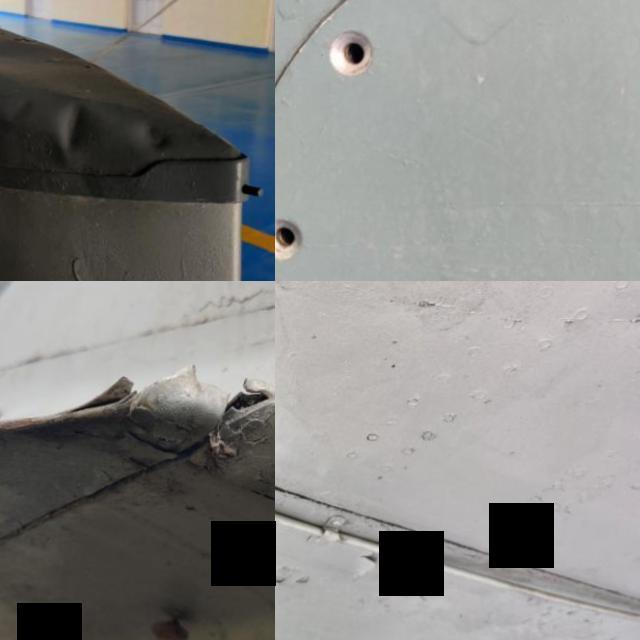Crack: (48, 332, 206, 437), (212, 361, 275, 429)
Dent: (275, 281, 329, 471), (44, 89, 106, 166), (126, 106, 187, 165)
Missing_Fastener: (299, 5, 406, 104), (275, 183, 340, 281)
